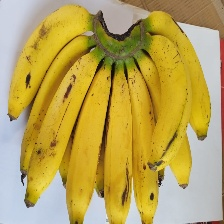banana: (64, 31, 202, 178)
